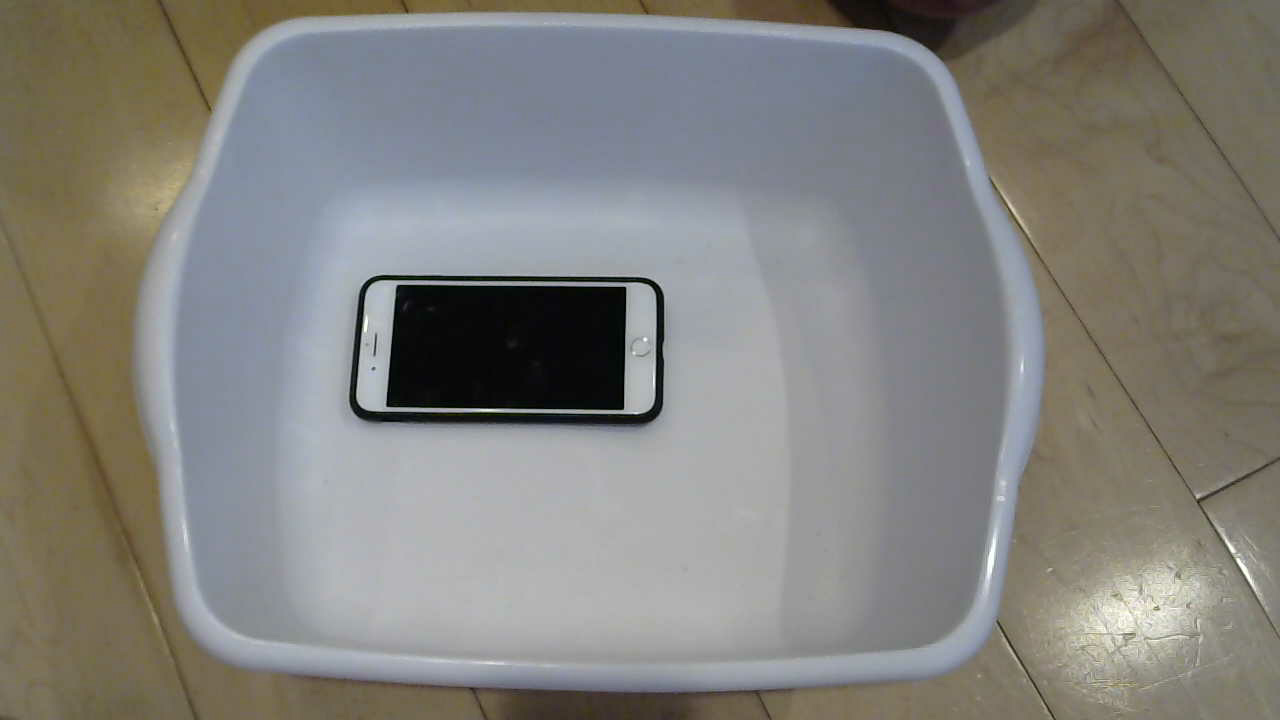phone: (324, 279, 698, 456)
